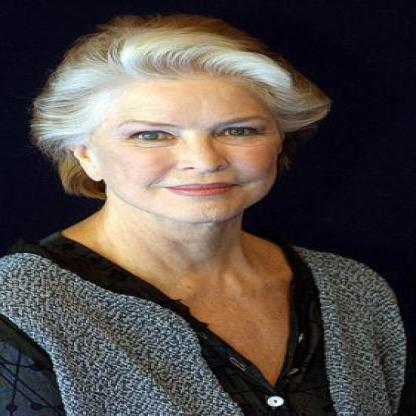face: (91, 49, 291, 228)
